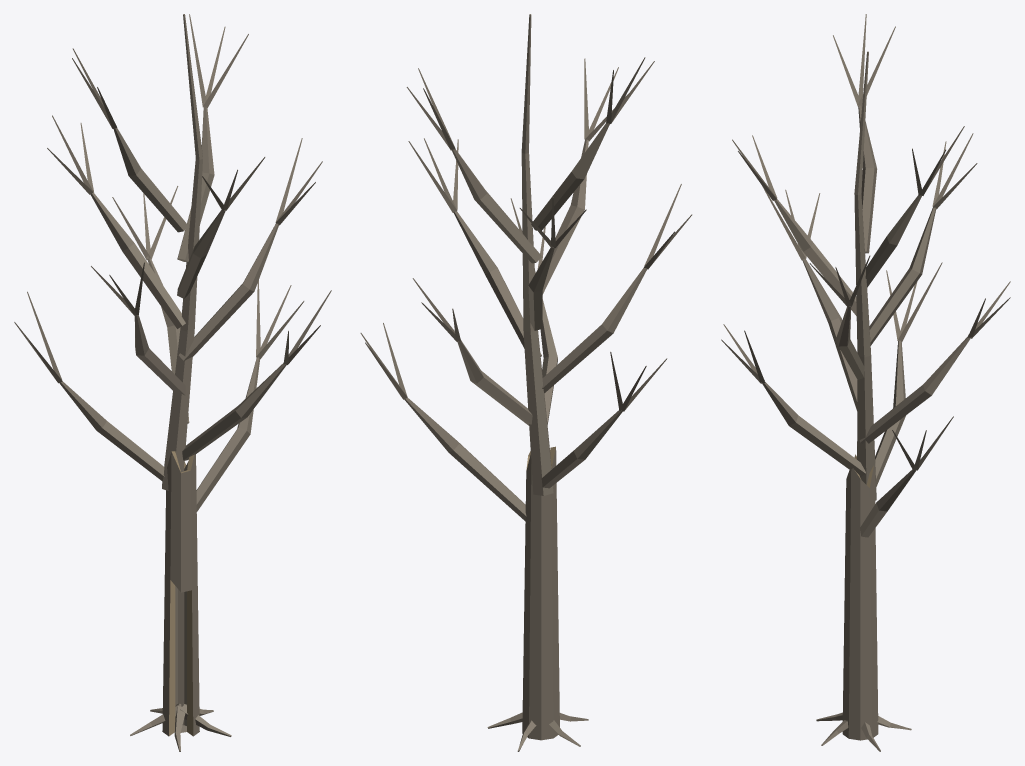
Rendered from birch-dead.glb.
3 renders of one model, left to right at view 1: azimuth 30°, elevation 25°; view 2: azimuth 150°, elevation 25°; view 3: azimuth 270°, elevation 25°, orthographic. The views are drawn at different scales.
Visible parts, largest first — view 1: tree_birch-dead_LOD0; view 2: tree_birch-dead_LOD0; view 3: tree_birch-dead_LOD0.
Boxes of the visible parts, x1,y1,x2,y2 form: tree_birch-dead_LOD0: [14, 14, 331, 751]; tree_birch-dead_LOD0: [360, 14, 692, 751]; tree_birch-dead_LOD0: [721, 14, 1010, 751].
Size of the model in its own units: 5 by 12 by 4.6.
